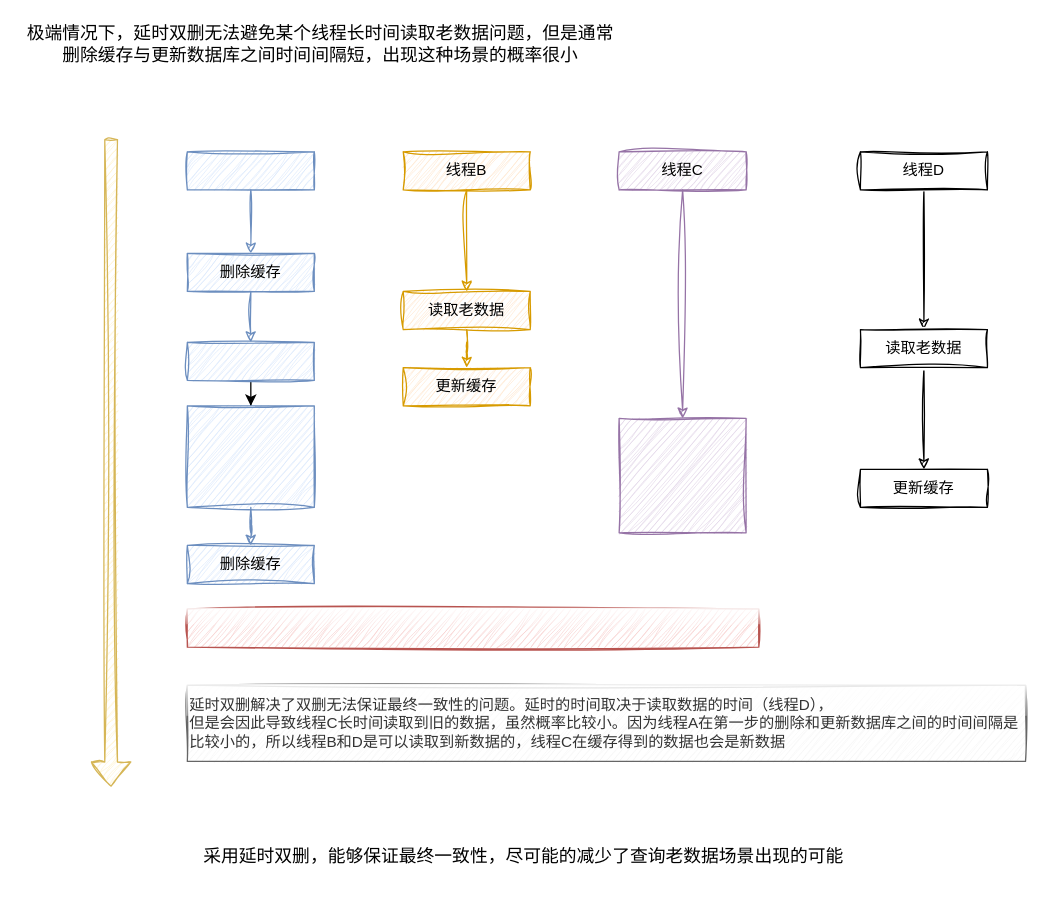
Some shapes in this 1048 by 897 pixel diagram are drawn without their labels. The centre of each missing label's shape, as x and y in pixels:
延时: the point at 250,455
更新数据库: the point at 250,360
线程A: the point at 250,170
线程C将长时间读到旧数据: the point at 472,627
读取缓存: the point at 682,475
